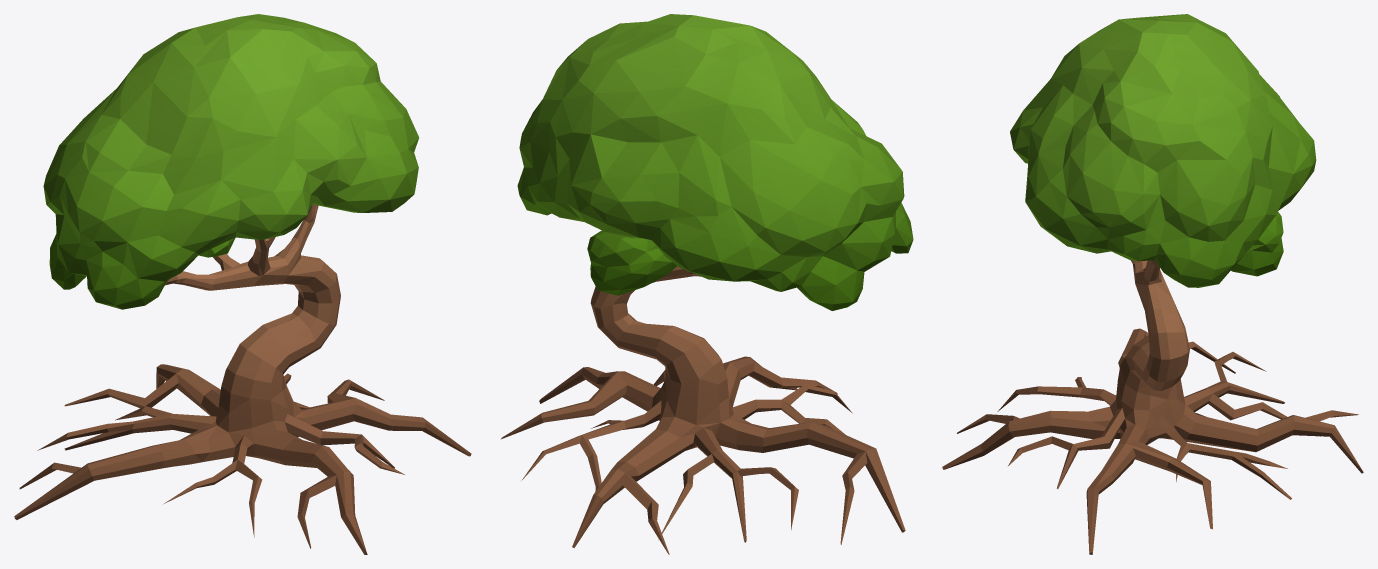
File: Tree_Common_05.fbx
3 renders of one model, left to right at view 1: azimuth 30°, elevation 25°; view 2: azimuth 150°, elevation 25°; view 3: azimuth 270°, elevation 25°, orthographic. The views are drawn at different scales.
Visible parts, largest first — view 1: Tree_Common_05; view 2: Tree_Common_05; view 3: Tree_Common_05.
Boxes of the visible parts, bbox=[...] form: Tree_Common_05: bbox=[14, 14, 471, 554]; Tree_Common_05: bbox=[501, 14, 913, 554]; Tree_Common_05: bbox=[942, 14, 1363, 554].
Bounding box in the file's own units: 1203 × 1265 × 1103.
